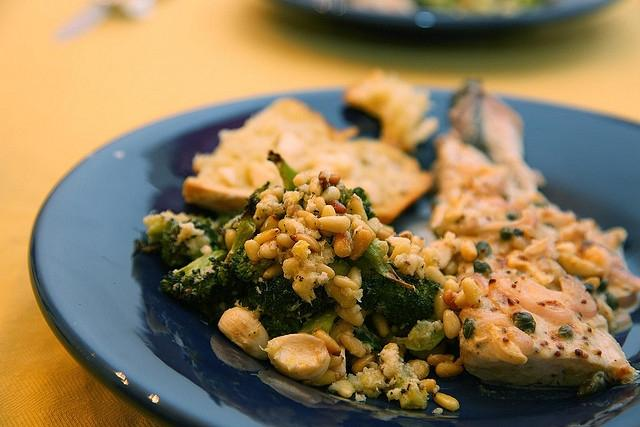broccoli: (360, 268, 440, 330), (254, 274, 328, 340), (160, 250, 227, 306), (389, 318, 444, 351), (160, 218, 205, 253), (267, 150, 300, 193), (232, 250, 273, 284), (241, 182, 270, 220)
